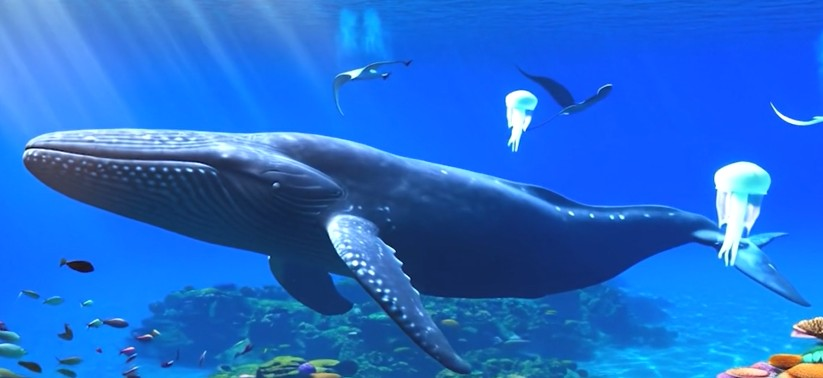whale: (514, 65, 614, 116), (331, 59, 414, 114), (505, 91, 538, 153)
